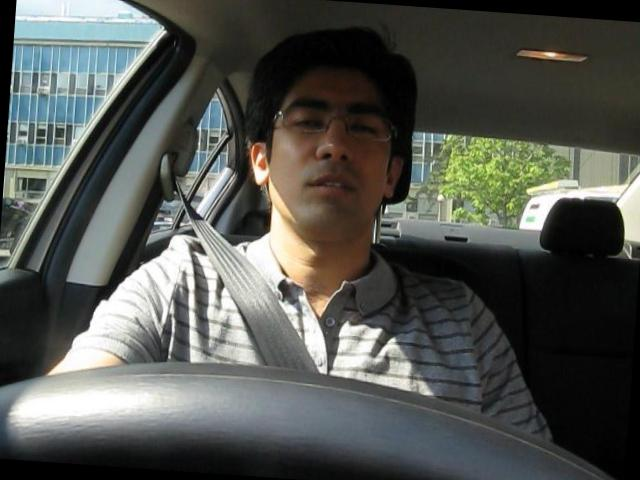eye_closed: (286, 112, 330, 134), (346, 118, 382, 138)
face: (265, 72, 396, 248)
